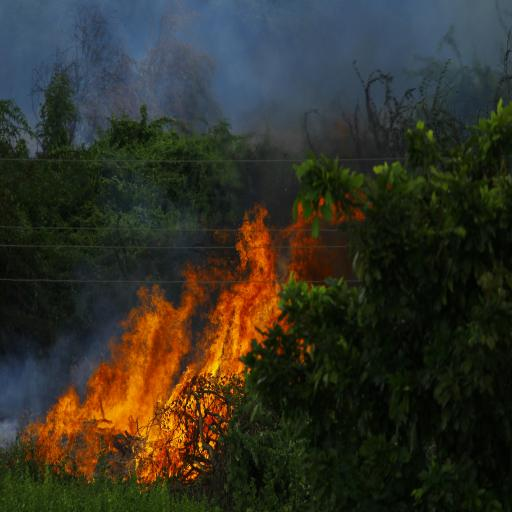wildfire: (0, 99, 418, 512)
